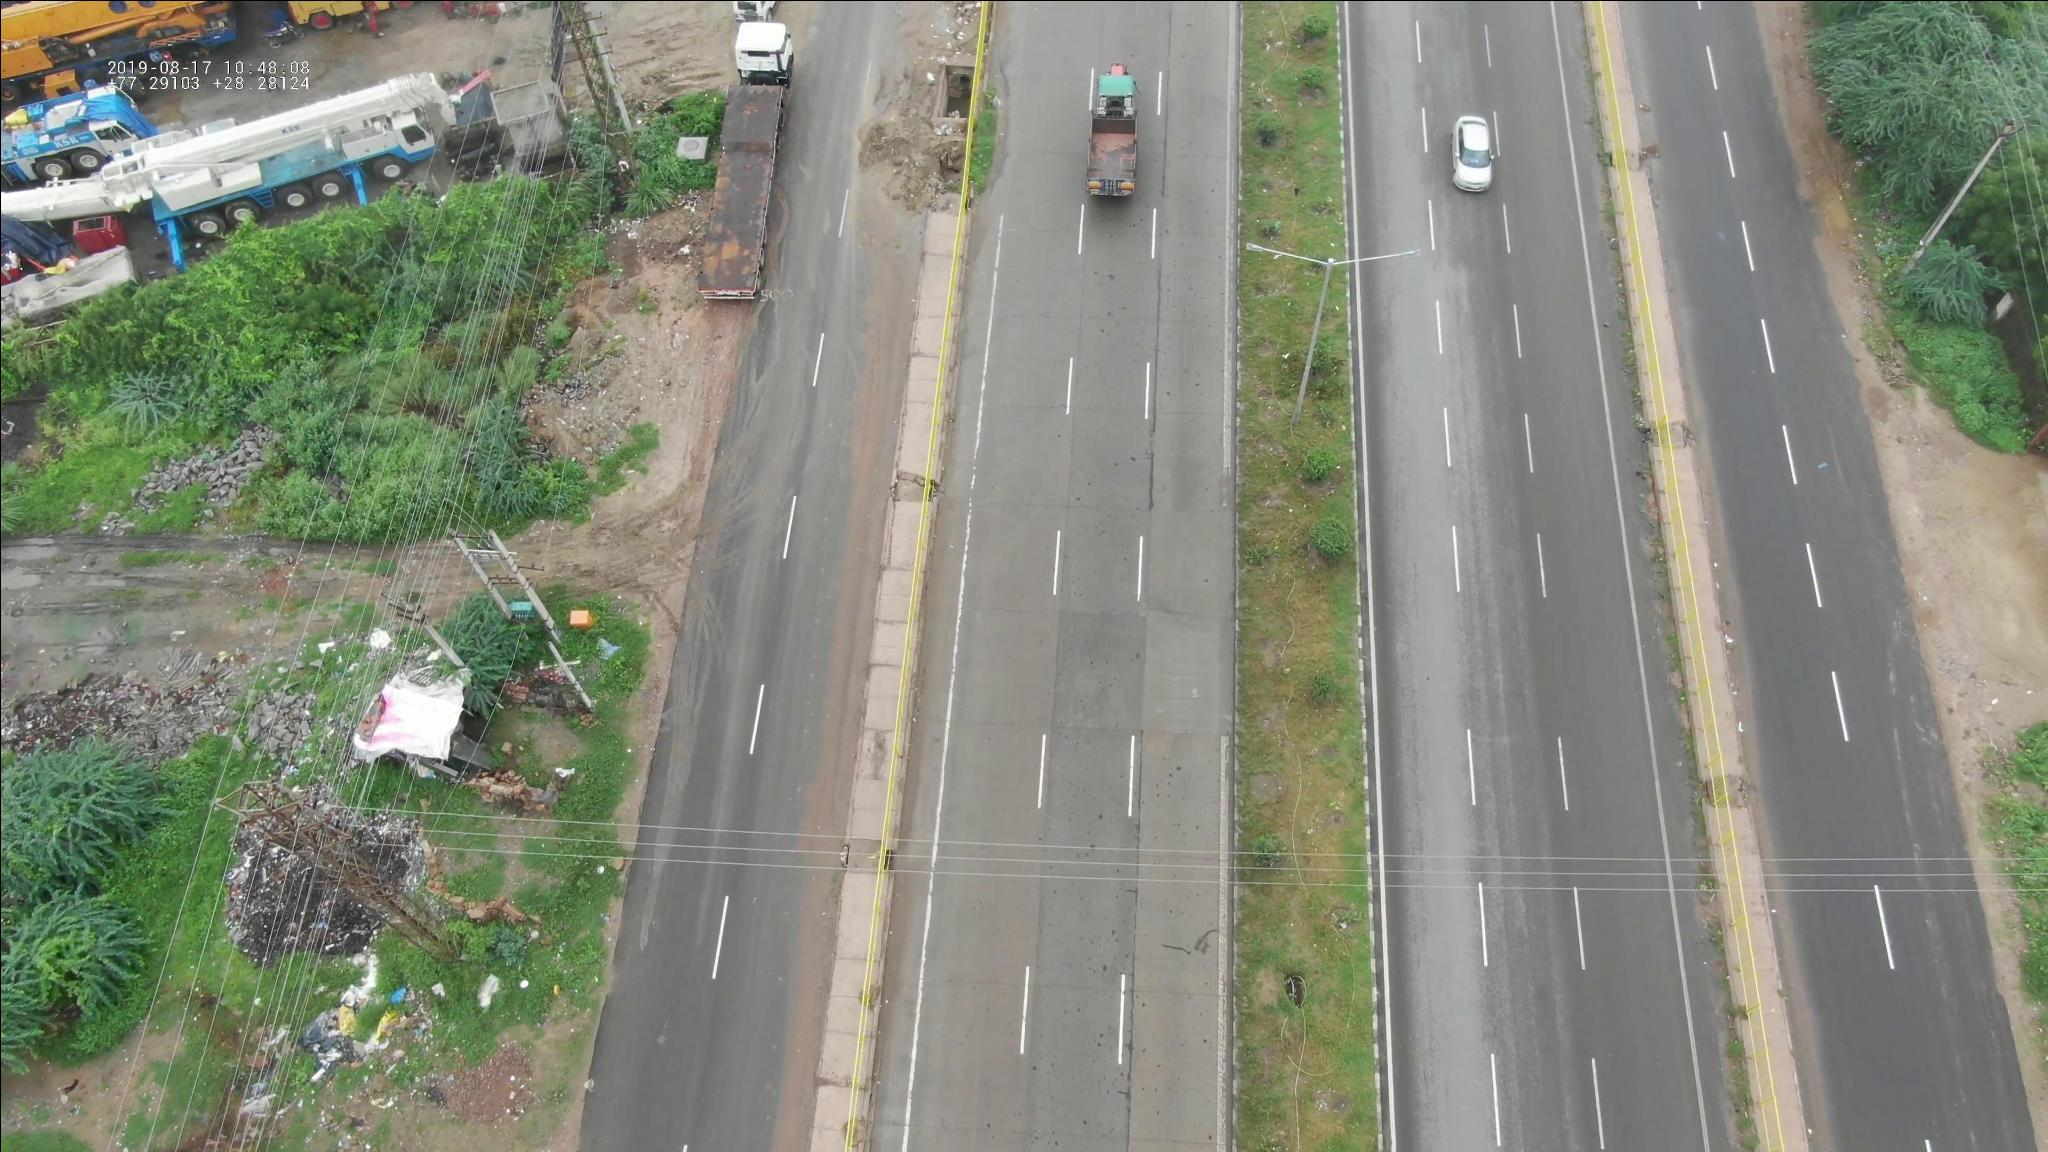Muddy_road: (859, 60, 940, 198)
